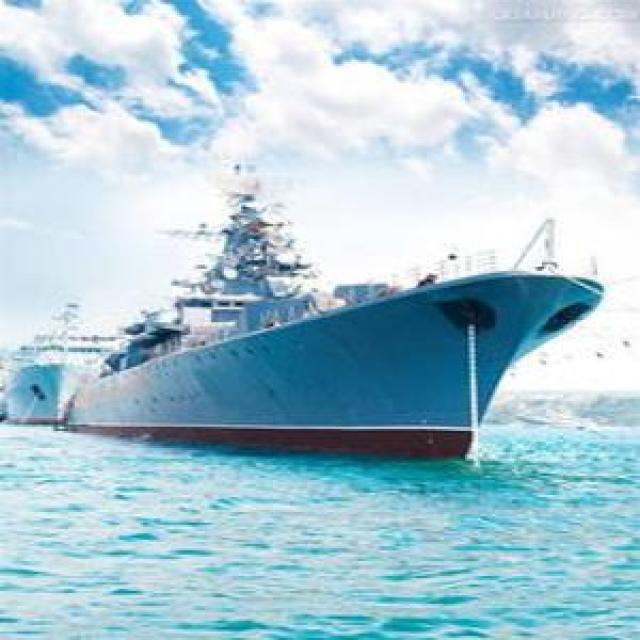navalvessels: (15, 162, 544, 543)
